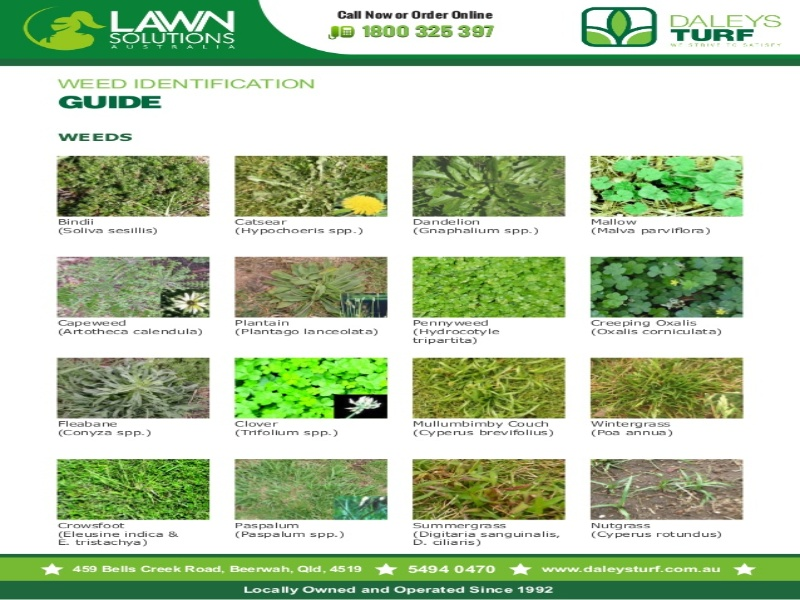weed: (438, 158, 530, 211), (106, 367, 185, 414), (274, 264, 343, 315), (673, 160, 736, 211), (272, 160, 331, 210), (665, 263, 723, 306), (595, 170, 653, 210), (600, 264, 642, 303), (131, 260, 183, 290), (84, 261, 122, 290)
